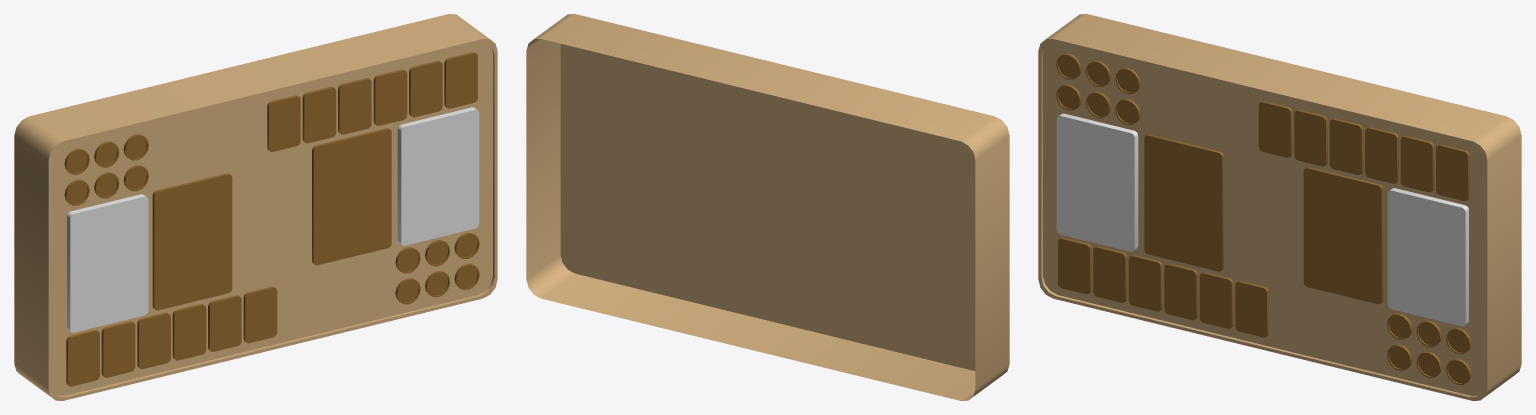
Rendered from GameBoard.fbx.
3 views of the same model, side by side, from view 1: azimuth 30°, elevation 25°; view 2: azimuth 150°, elevation 25°; view 3: azimuth 330°, elevation 25° (orthographic).
Visible parts, largest first — view 1: Board, DeckSlotEnemy, DeckSlotPlayer, ActiveSlotPlayer, ActiveSlotEnemy, BenchSlotEnemy02, BenchSlotPlayer02, BenchSlotPlayer03, BenchSlotPlayer05, BenchSlotEnemy05, BenchSlotPlayer01, BenchSlotPlayer04 (+17 smaller); view 2: Board; view 3: Board, DeckSlotPlayer, DeckSlotEnemy, ActiveSlotEnemy, ActiveSlotPlayer, BenchSlotEnemy06, BenchSlotPlayer06, BenchSlotEnemy01, BenchSlotEnemy04, BenchSlotPlayer04, BenchSlotEnemy03, BenchSlotEnemy05 (+17 smaller).
Part boxes in pixels (box(x1,y1,x2,y2)): Board: box(14, 14, 497, 400); DeckSlotEnemy: box(397, 107, 479, 245); DeckSlotPlayer: box(67, 194, 148, 332); ActiveSlotPlayer: box(152, 173, 232, 310); ActiveSlotEnemy: box(312, 128, 391, 265); BenchSlotEnemy02: box(302, 86, 336, 143); BenchSlotPlayer02: box(101, 321, 135, 377); BenchSlotPlayer03: box(243, 286, 277, 343); BenchSlotPlayer05: box(172, 304, 206, 360); BenchSlotEnemy05: box(373, 69, 407, 125); BenchSlotPlayer01: box(66, 330, 99, 386); BenchSlotPlayer04: box(137, 312, 170, 369); Board: box(526, 14, 1009, 400); Board: box(1038, 14, 1521, 400); DeckSlotPlayer: box(1056, 113, 1138, 251); DeckSlotEnemy: box(1387, 188, 1468, 326); ActiveSlotEnemy: box(1303, 167, 1383, 304); ActiveSlotPlayer: box(1144, 134, 1223, 271); BenchSlotEnemy06: box(1400, 135, 1434, 192); BenchSlotPlayer06: box(1199, 272, 1233, 328); BenchSlotEnemy01: box(1258, 101, 1292, 157); BenchSlotEnemy04: box(1329, 118, 1363, 174); BenchSlotPlayer04: box(1128, 255, 1162, 311); BenchSlotEnemy03: box(1436, 144, 1469, 200); BenchSlotEnemy05: box(1365, 127, 1398, 183).
Bounding box in the file's own units: 15.2 × 8.4 × 2.1.
